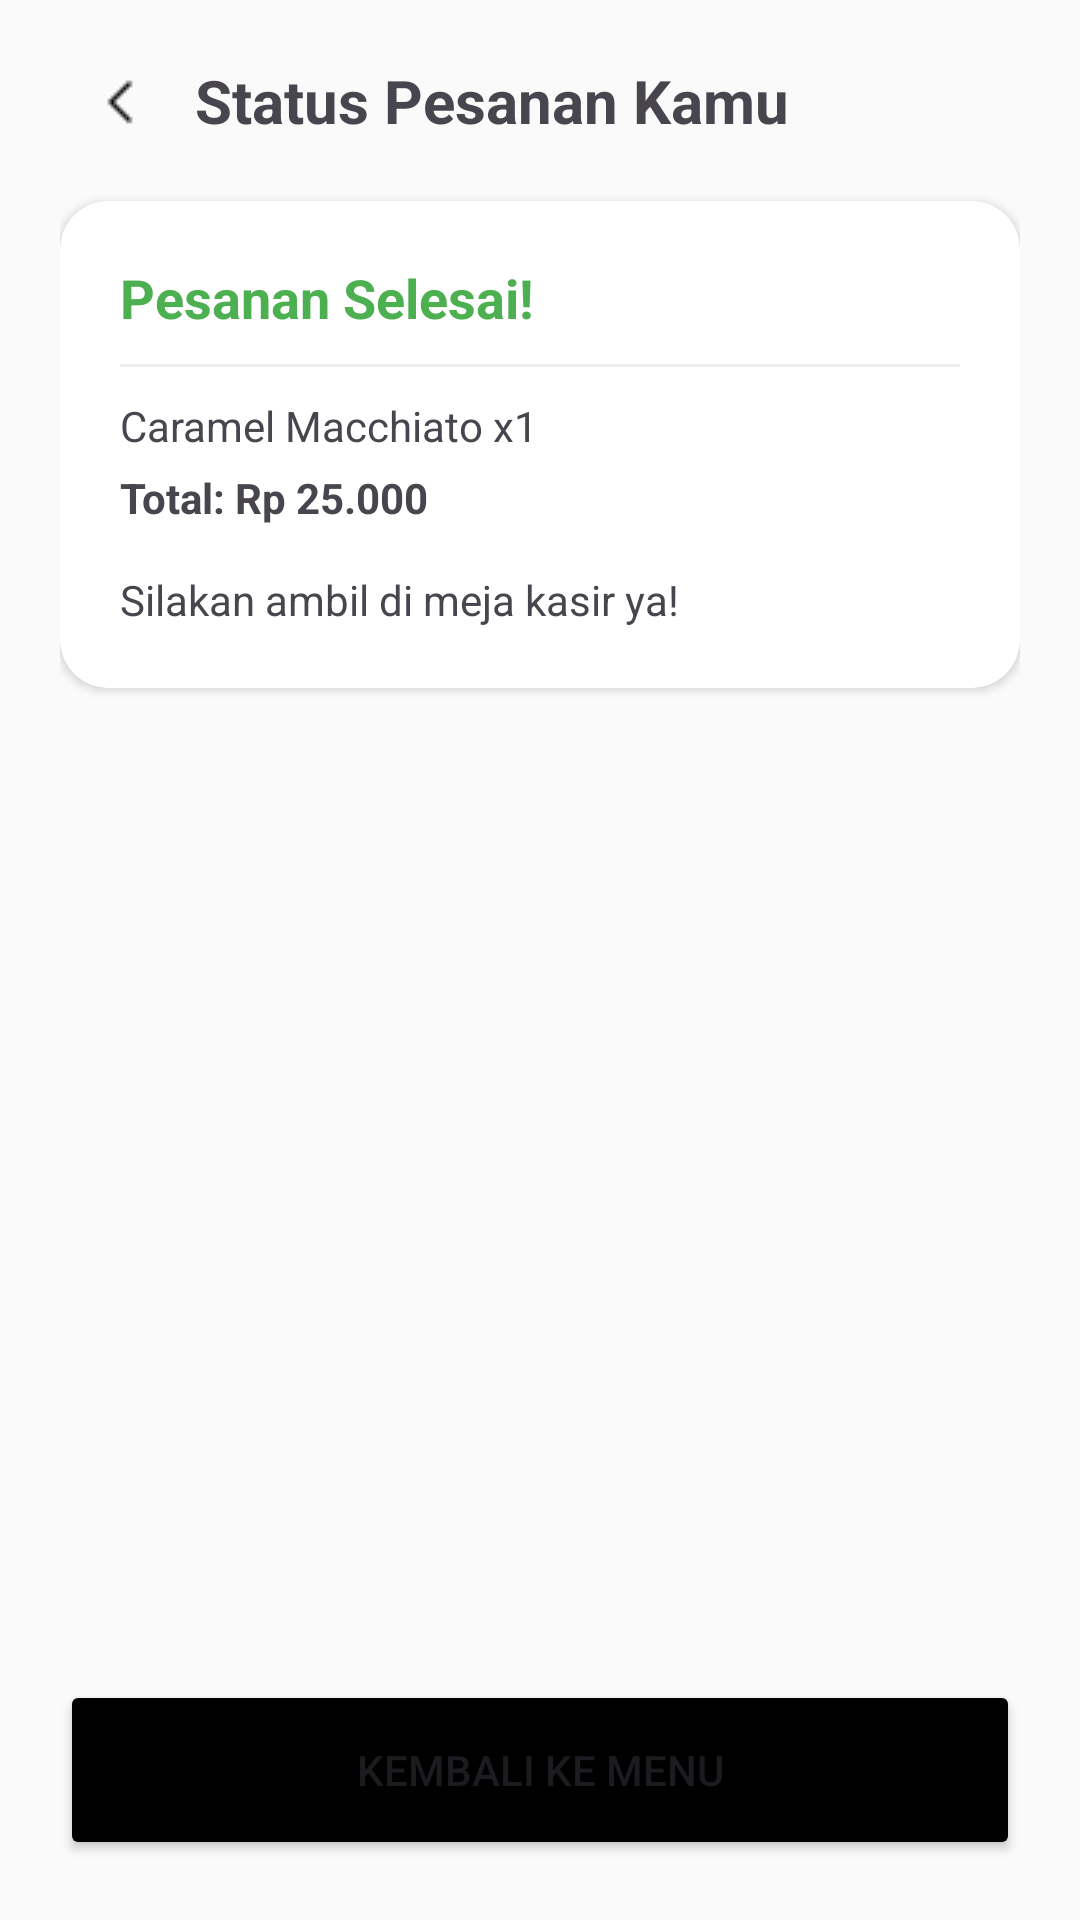

Named icons in this screenshot (1080x1920) and their bounding boxes, [x1,y1,x2,y2]:
back: [107,80,133,124]
